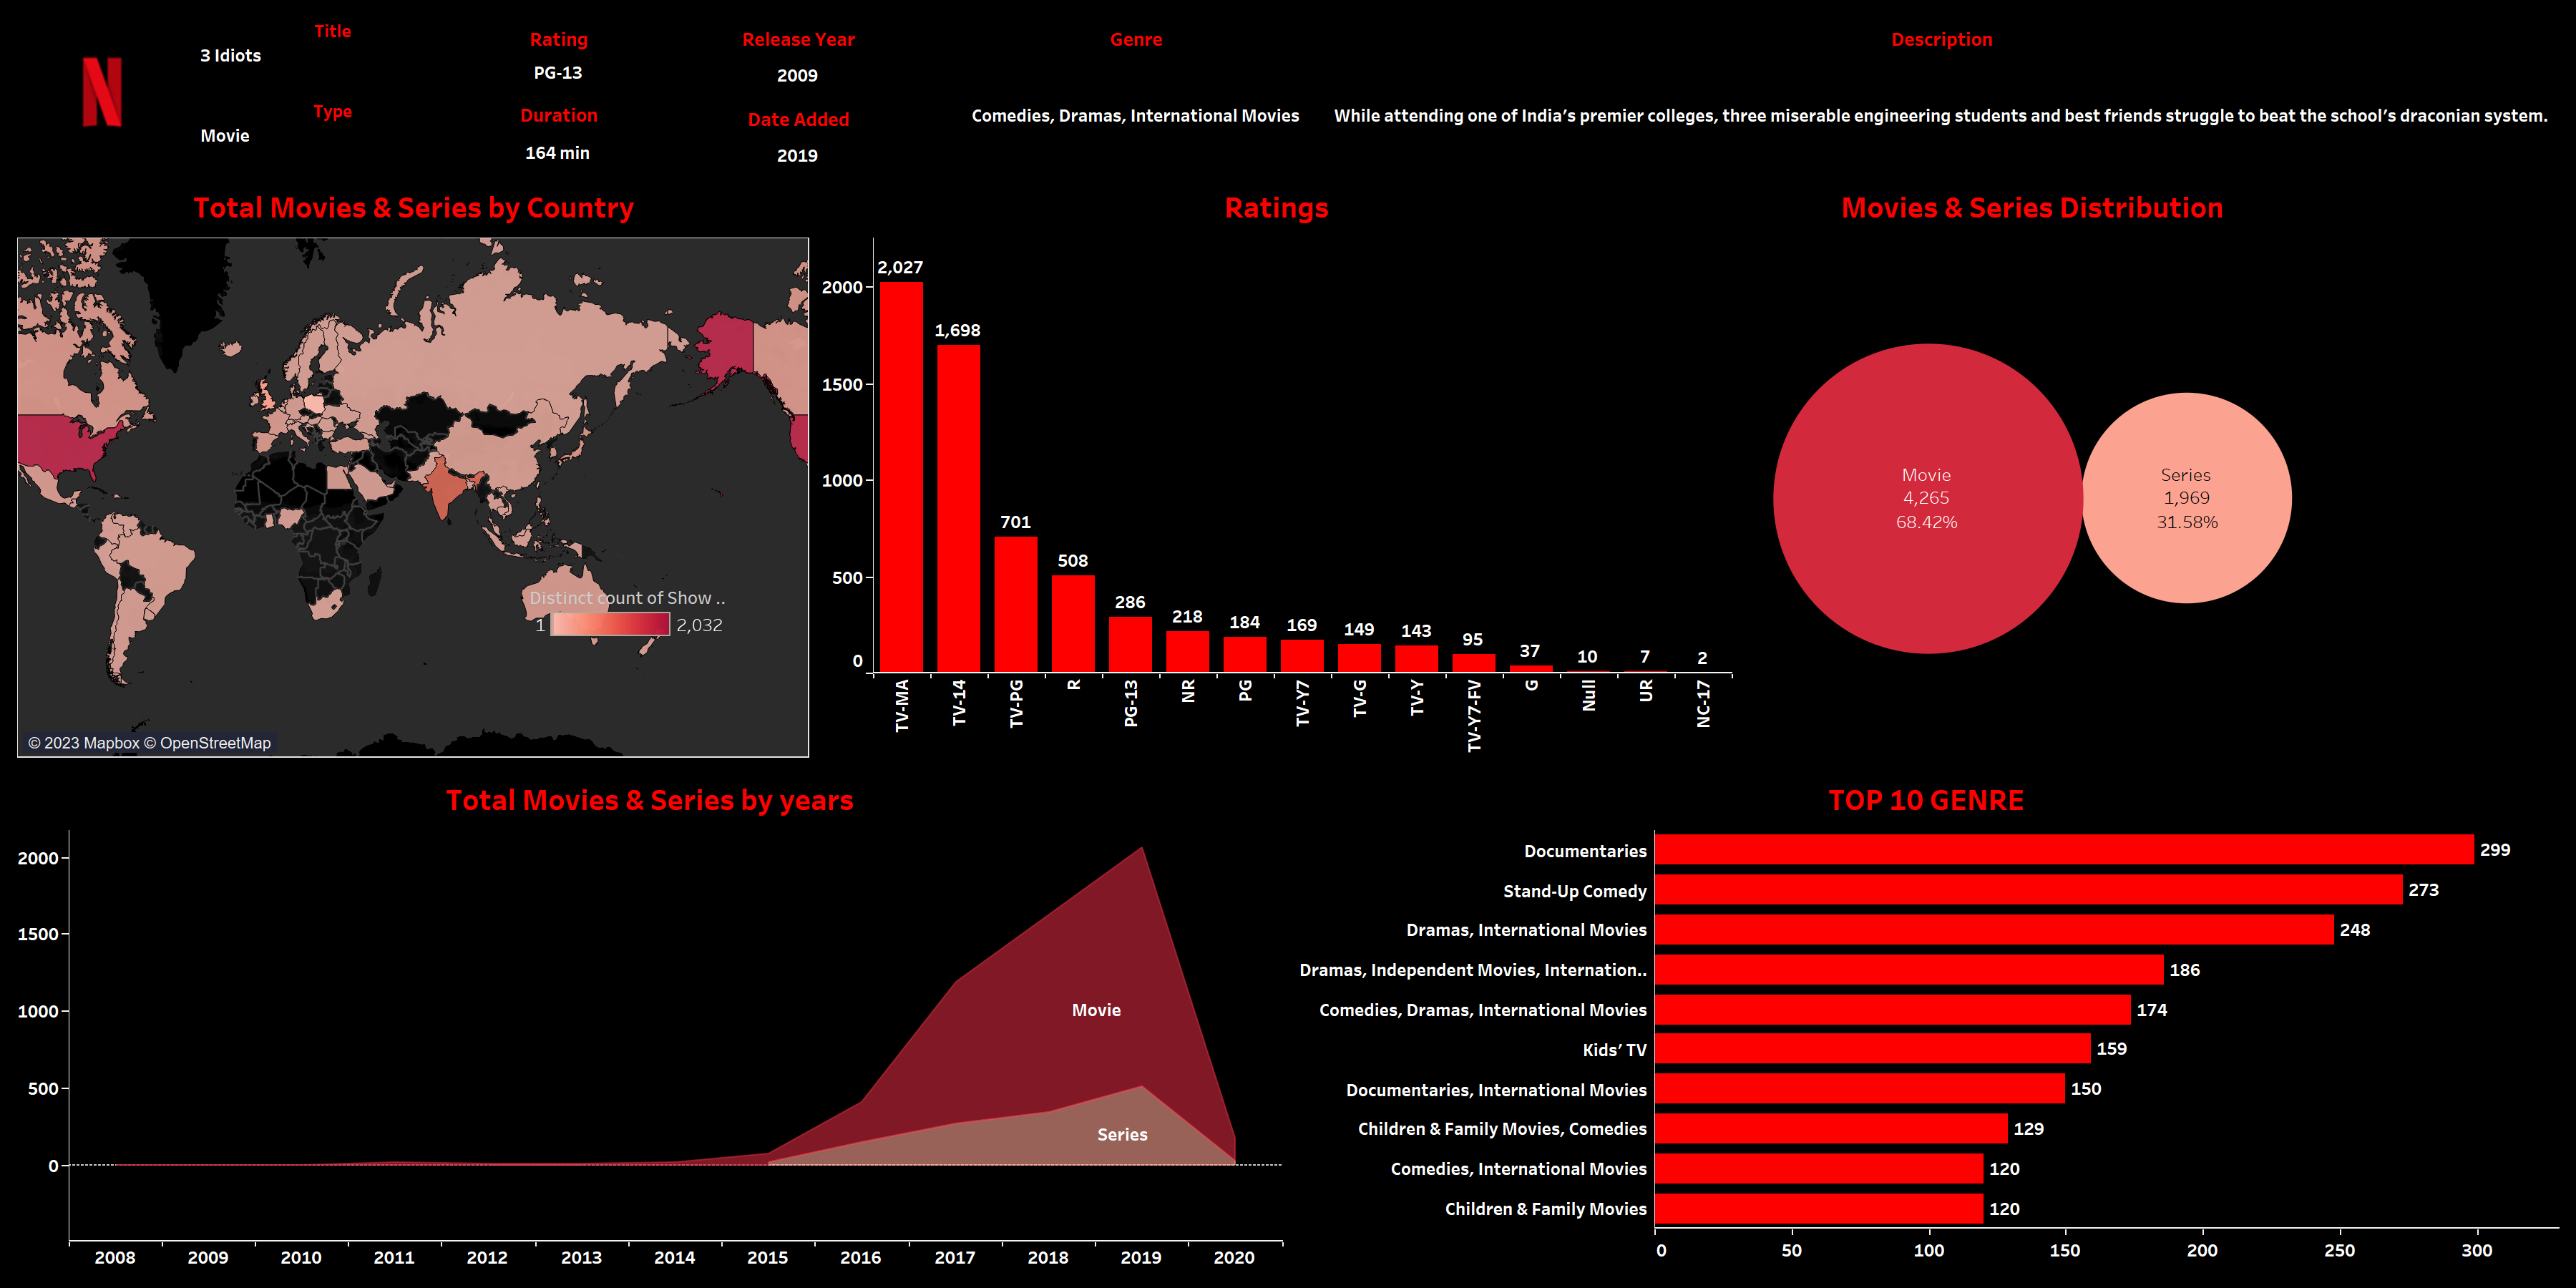

What the dashboard file says about the page in this screenshot:
{"tool":"tableau","page":{"name":"Netlix Dashboard","canvas":[1800,900],"ordinal":0},"visuals":[{"type":"image","param":"C:/Users/dhshe/OneDrive/Desktop/netflix_n_icon_logo_3840.0.jpg","box":[8,8,126,112]},{"type":"filter","title":"Description","param":"[federated.1vys0vj1s3hd9x16nmfxo1nkrxl5].[none:title:nk]","box":[134,8,197,56]},{"type":"worksheet","title":"Individual Rating","mark":"Automatic","box":[331,8,119,53]},{"type":"worksheet","title":"Release Year","mark":"Automatic","box":[450,8,216,56]},{"type":"worksheet","title":"Genre","mark":"Automatic","box":[666,8,256,112]},{"type":"worksheet","title":"Description","mark":"Automatic","box":[922,8,870,112]},{"type":"worksheet","title":"Duration","mark":"Automatic","box":[331,61,119,59]},{"type":"filter","title":"Description","param":"[federated.1vys0vj1s3hd9x16nmfxo1nkrxl5].[none:type:nk]","box":[134,64,197,56]},{"type":"worksheet","title":"Date Added","mark":"Automatic","box":[450,64,216,56]},{"type":"worksheet","title":"Total movies & series by country","mark":"Multipolygon","box":[8,120,562.4,414]},{"type":"worksheet","title":"Ratings","mark":"Automatic","rows":["show_id"],"cols":["rating"],"box":[570.4,120,664.1,414]},{"type":"worksheet","title":"Movies & Series Distribution","mark":"Circle","box":[1234.5,120,557.5,414]},{"type":"legend","title":"Total movies & series by country","param":"[federated.1vys0vj1s3hd9x16nmfxo1nkrxl5].[ctd:show_id:qk]","box":[370,405,140,46]},{"type":"worksheet","title":"Total Movies & Series by years","mark":"Area","rows":["show_id"],"cols":["date_added"],"box":[8,534,892,358]},{"type":"worksheet","title":"Top 10 Genre","mark":"Automatic","rows":["listed_in"],"cols":["show_id"],"box":[900,534,892,358]}]}

Visuals, with their boxes in screenshot pixels (x1, y1, x2, y2), scaled from the page's 1800x900 canvas onto the 2576x1288 screenshot:
image: (left=11, top=11, right=192, bottom=172)
"Description" filter: (left=192, top=11, right=474, bottom=92)
"Individual Rating" worksheet: (left=474, top=11, right=644, bottom=87)
"Release Year" worksheet: (left=644, top=11, right=953, bottom=92)
"Genre" worksheet: (left=953, top=11, right=1319, bottom=172)
"Description" worksheet: (left=1319, top=11, right=2565, bottom=172)
"Duration" worksheet: (left=474, top=87, right=644, bottom=172)
"Description" filter: (left=192, top=92, right=474, bottom=172)
"Date Added" worksheet: (left=644, top=92, right=953, bottom=172)
"Total movies & series by country" worksheet (Multipolygon marks): (left=11, top=172, right=816, bottom=764)
"Ratings" worksheet: (left=816, top=172, right=1767, bottom=764)
"Movies & Series Distribution" worksheet (Circle marks): (left=1767, top=172, right=2565, bottom=764)
"Total movies & series by country" legend: (left=530, top=580, right=730, bottom=645)
"Total Movies & Series by years" worksheet (Area marks): (left=11, top=764, right=1288, bottom=1277)
"Top 10 Genre" worksheet: (left=1288, top=764, right=2565, bottom=1277)
